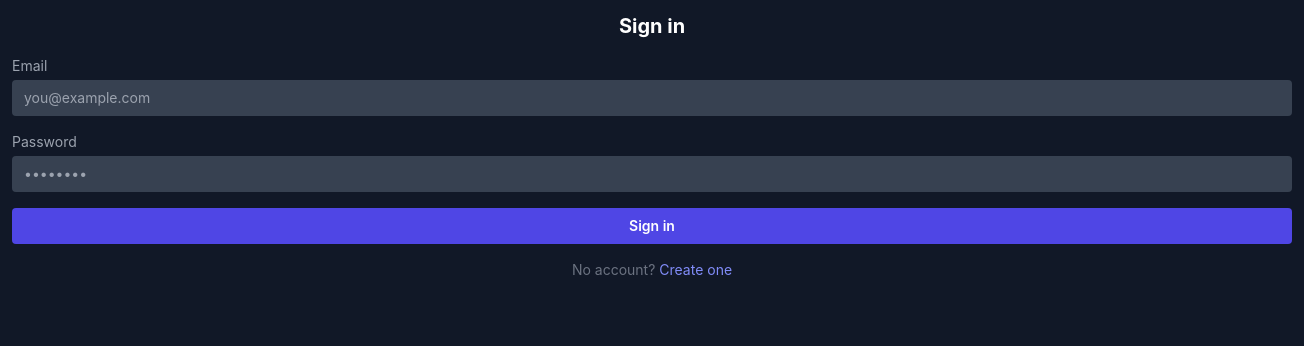
Scenario: LoginForm › shows error when signIn fails
In the field with test id "email-input": (652, 98) [12, 80, 1292, 116], type "bad@test.com"
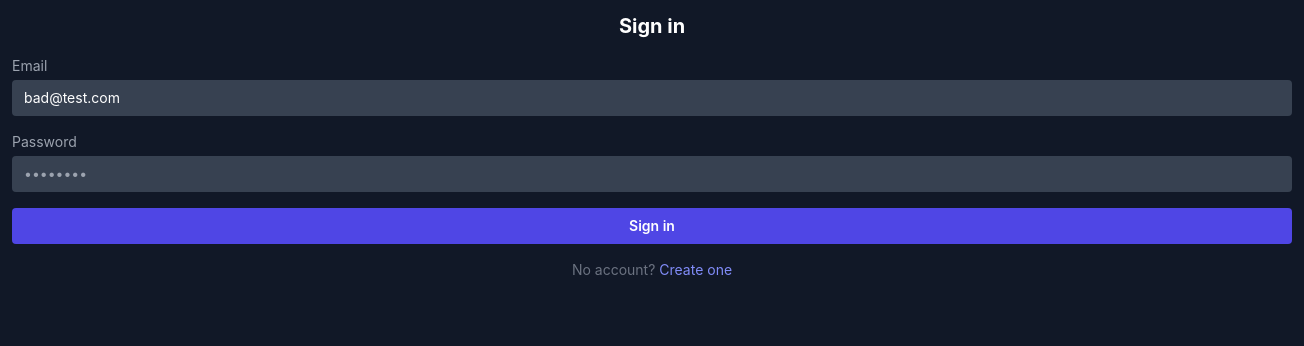
In the password field with test id "password-input": (652, 174) [12, 156, 1292, 192], type "wrong"
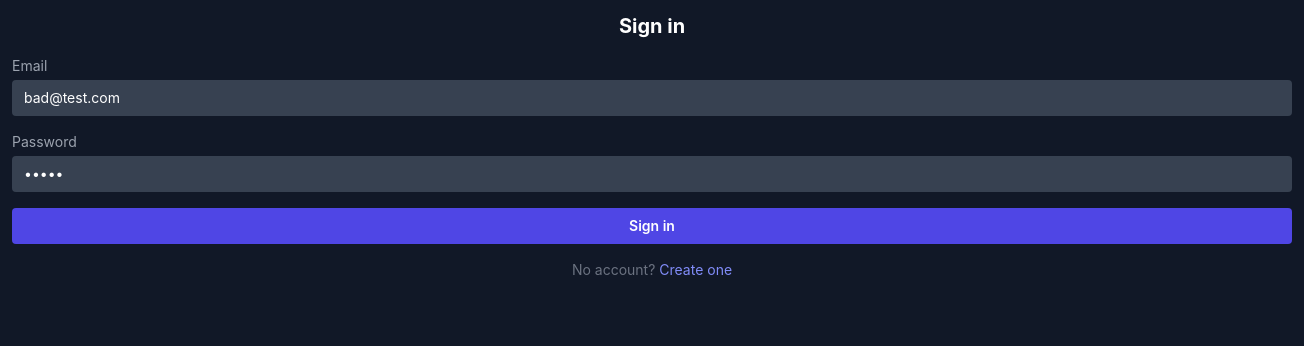
Click the button with test id "submit-btn": (652, 226) [12, 208, 1292, 244]
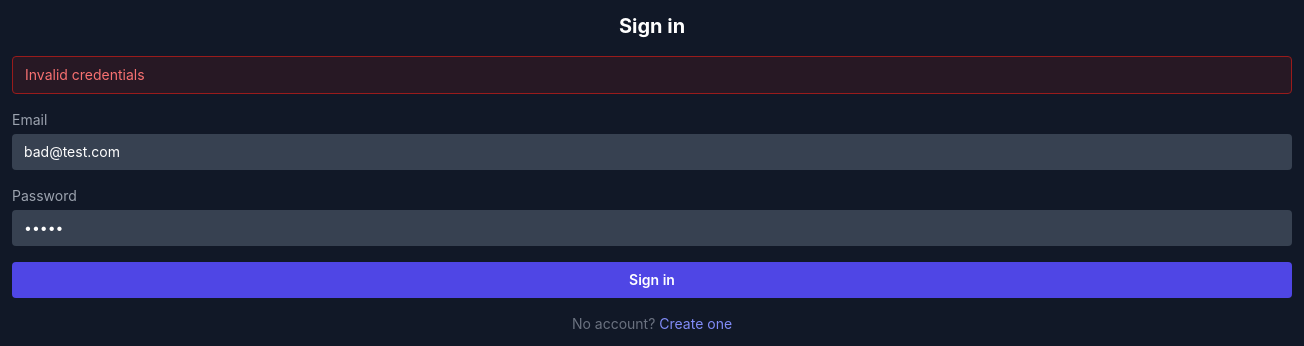
Expected: the message reads "Invalid credentials", [25, 66, 145, 83]
